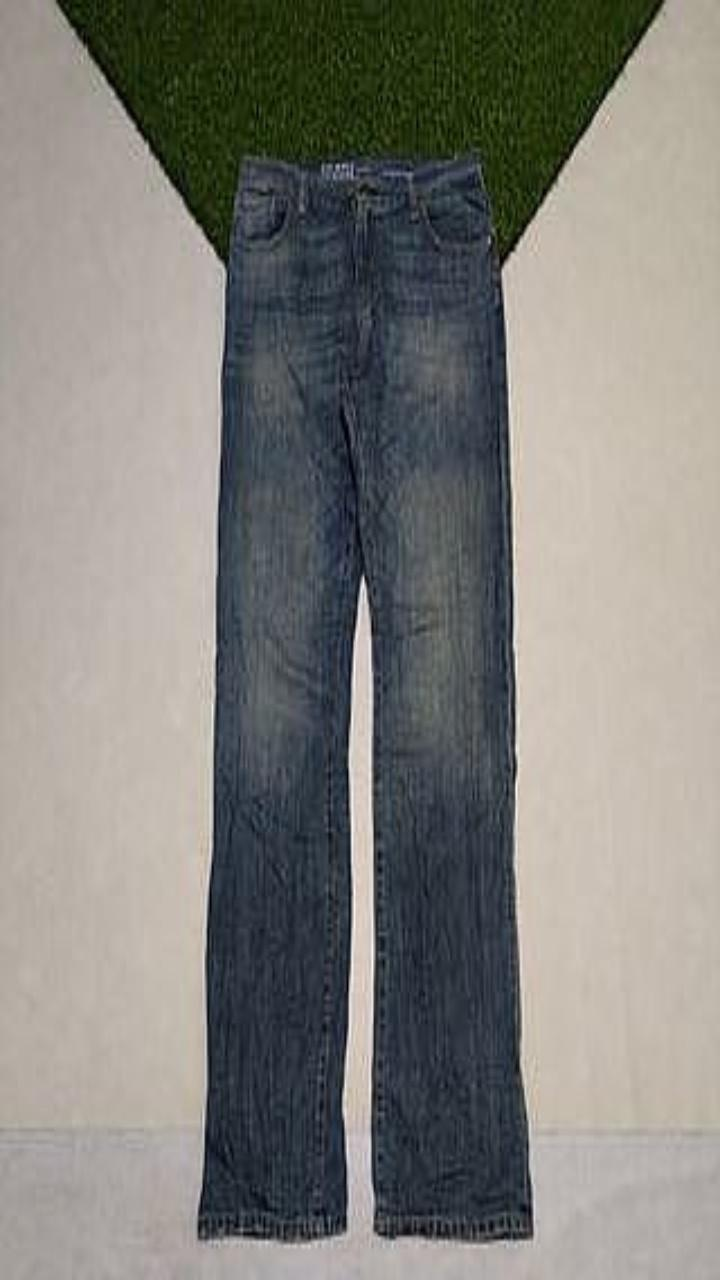Jeans: (197, 151, 532, 1239)
